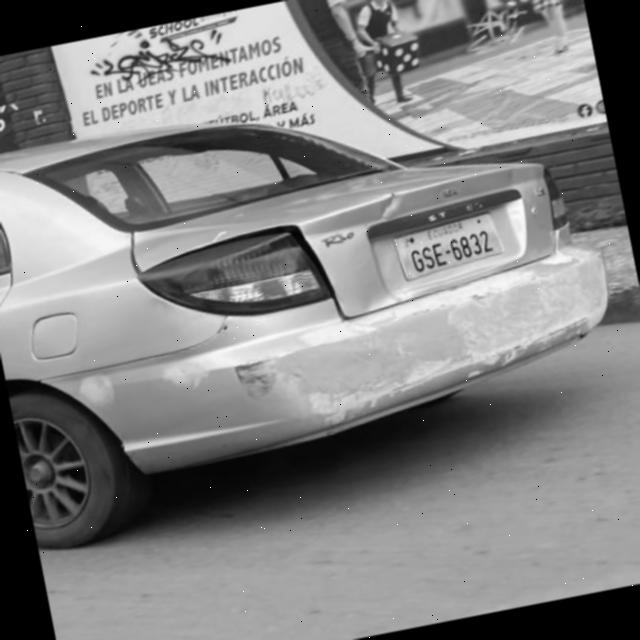Placa: (396, 214, 502, 279)
